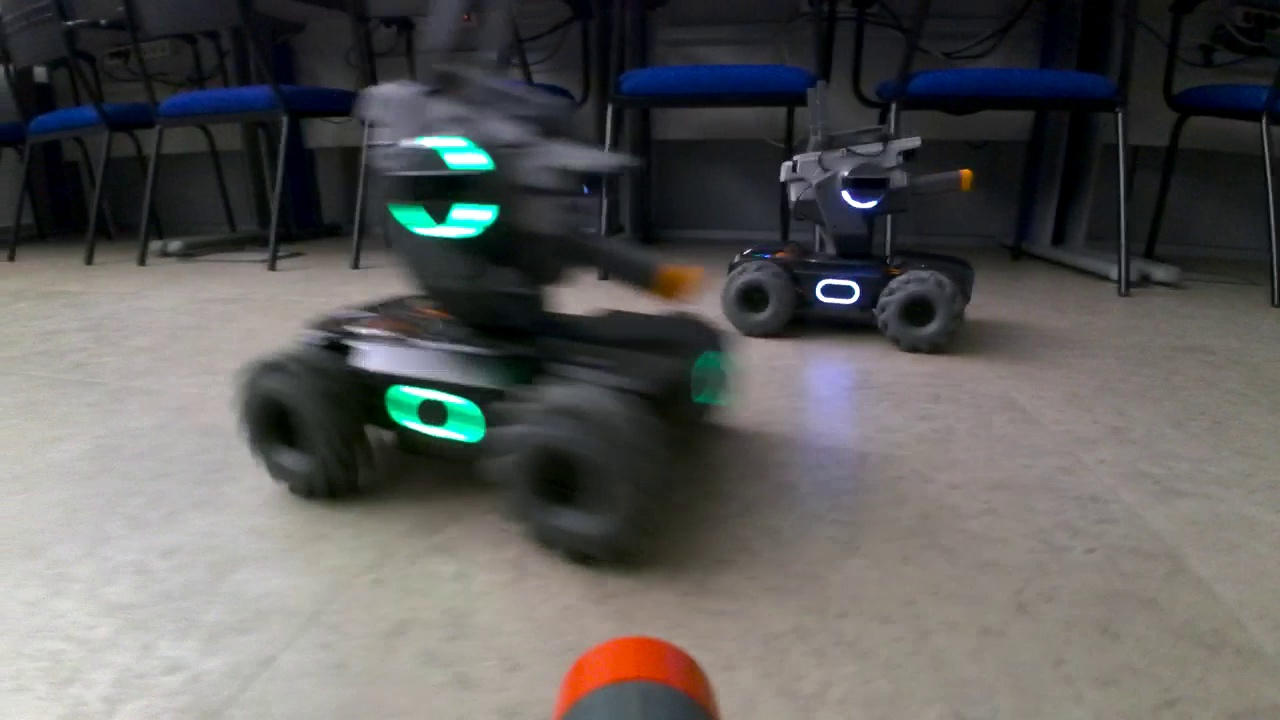robot: (239, 65, 721, 553), (722, 88, 970, 355)
